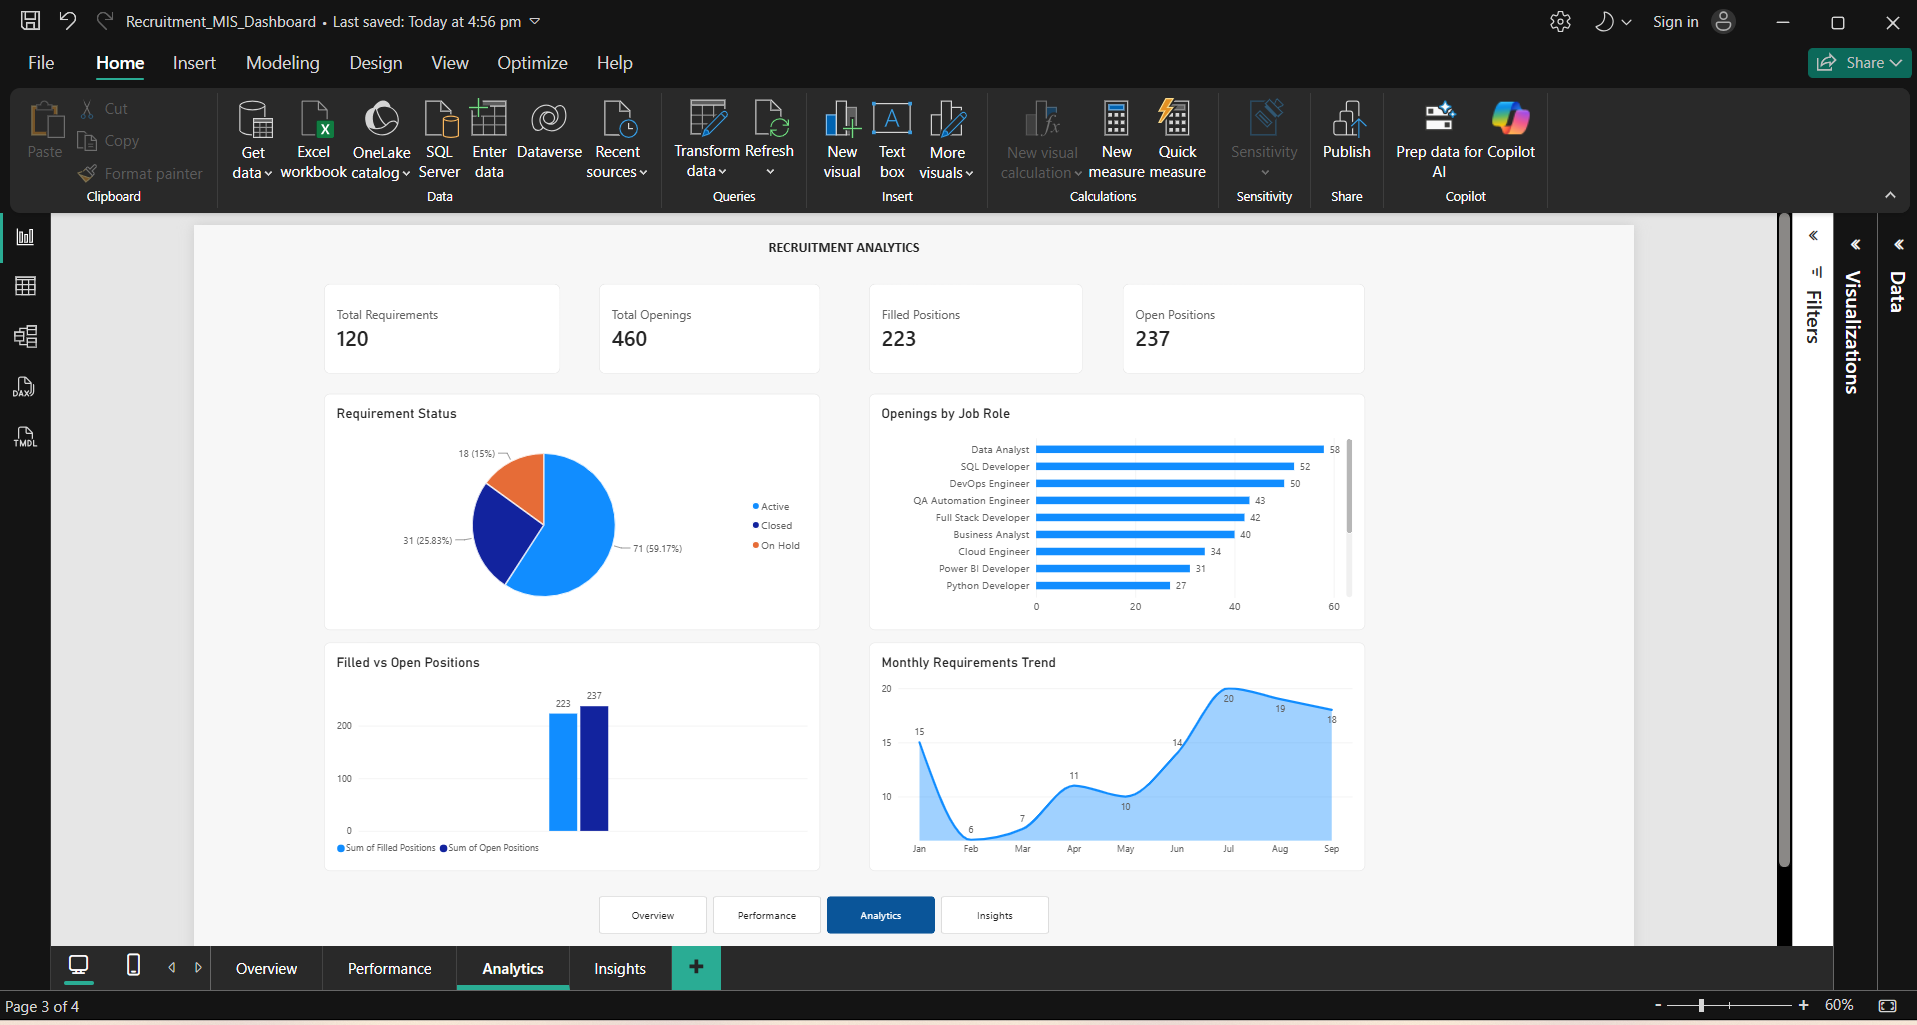

The page's visual inventory and layout, read from the dashboard file:
{"tool":"powerbi","page":{"name":"Analytics","canvas":[1920,1080],"ordinal":2},"visuals":[{"type":"textbox","box":[10.2,10.2,906.1,28.6],"z":0},{"type":"cardVisual","fields":{"Data":["Candidate Submissions.Total Requirements"]},"box":[10.2,54.1,224.5,109.2],"z":1000},{"type":"cardVisual","fields":{"Data":["Candidate Submissions.Total Openings"]},"box":[238.8,54.1,241.8,109.2],"z":2000},{"type":"cardVisual","fields":{"Data":["Candidate Submissions.Filled Positions"]},"box":[487.8,54.1,215.3,109.2],"z":3000},{"type":"cardVisual","fields":{"Data":["Candidate Submissions.Open Positions"]},"box":[710.2,54.1,228.6,109.2],"z":4000},{"type":"pieChart","title":"Requirement Status","fields":{"Category":["Requirements.Requirement Status"],"Y":["CountNonNull(Requirements.Requirement ID)"]},"box":[15.3,173.5,377.6,229.6],"z":5000},{"type":"clusteredBarChart","title":"Openings by Job Role","fields":{"Category":["Requirements.Job Role"],"Y":["Sum(Requirements.Openings)"]},"box":[405.7,173.6,533.3,229.9],"z":6000},{"type":"clusteredColumnChart","title":"Filled vs Open Positions","fields":{"Y":["Sum(Requirements.Filled Positions)","Sum(Requirements.Open Positions)"]},"box":[14.9,417.2,377,304.6],"z":7000},{"type":"areaChart","title":"Monthly Requirements Trend","fields":{"Category":["Dim Date.Month"],"Y":["CountNonNull(Requirements.Requirement ID)"]},"box":[405.7,417.2,533.3,304.6],"z":8000},{"type":"pageNavigator","box":[187.5,751.2,600,50],"z":8001}]}

Visuals, with their boxes on the page's 1920x1080 design canvas (x1, y1, x2, y2). These are canvas units, not pixel positions in the 1917x1025 screenshot, which may show the page scaled, cropped or inside an application window:
textbox: [x1=10, y1=10, x2=916, y2=39]
cardVisual - Candidate Submissions.Total Requirements: [x1=10, y1=54, x2=235, y2=163]
cardVisual - Candidate Submissions.Total Openings: [x1=239, y1=54, x2=481, y2=163]
cardVisual - Candidate Submissions.Filled Positions: [x1=488, y1=54, x2=703, y2=163]
cardVisual - Candidate Submissions.Open Positions: [x1=710, y1=54, x2=939, y2=163]
"Requirement Status" pieChart: [x1=15, y1=174, x2=393, y2=403]
"Openings by Job Role" clusteredBarChart: [x1=406, y1=174, x2=939, y2=404]
"Filled vs Open Positions" clusteredColumnChart: [x1=15, y1=417, x2=392, y2=722]
"Monthly Requirements Trend" areaChart: [x1=406, y1=417, x2=939, y2=722]
pageNavigator: [x1=188, y1=751, x2=788, y2=801]
